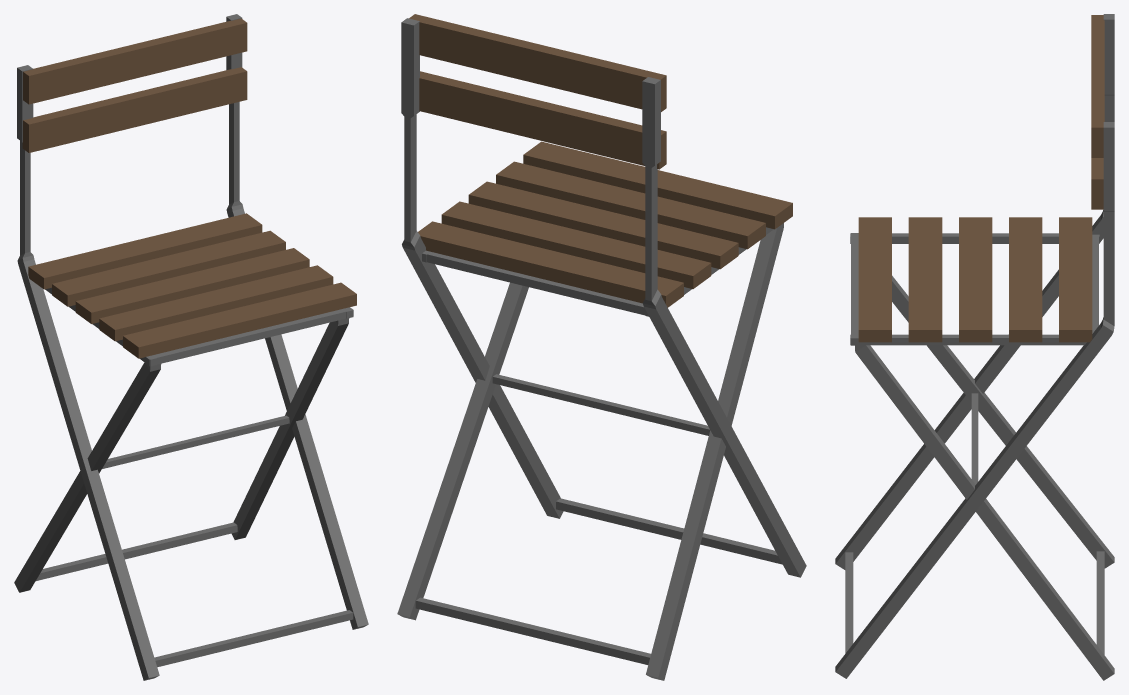
Rendered from chair.fbx.
The picture shows the model from 3 angles, left to right: view 1: azimuth 30°, elevation 25°; view 2: azimuth 150°, elevation 25°; view 3: azimuth 270°, elevation 25°; orthographic projection. The views are drawn at different scales.
Parts seen in each view (by area): view 1: Chair2; view 2: Chair2; view 3: Chair2.
Part boxes in pixels (x1=…): Chair2: x1=14, y1=14, x2=368, y2=680; Chair2: x1=397, y1=14, x2=806, y2=680; Chair2: x1=835, y1=14, x2=1114, y2=680.
Size of the model in its own units: 49.78 by 109 by 50.15.
